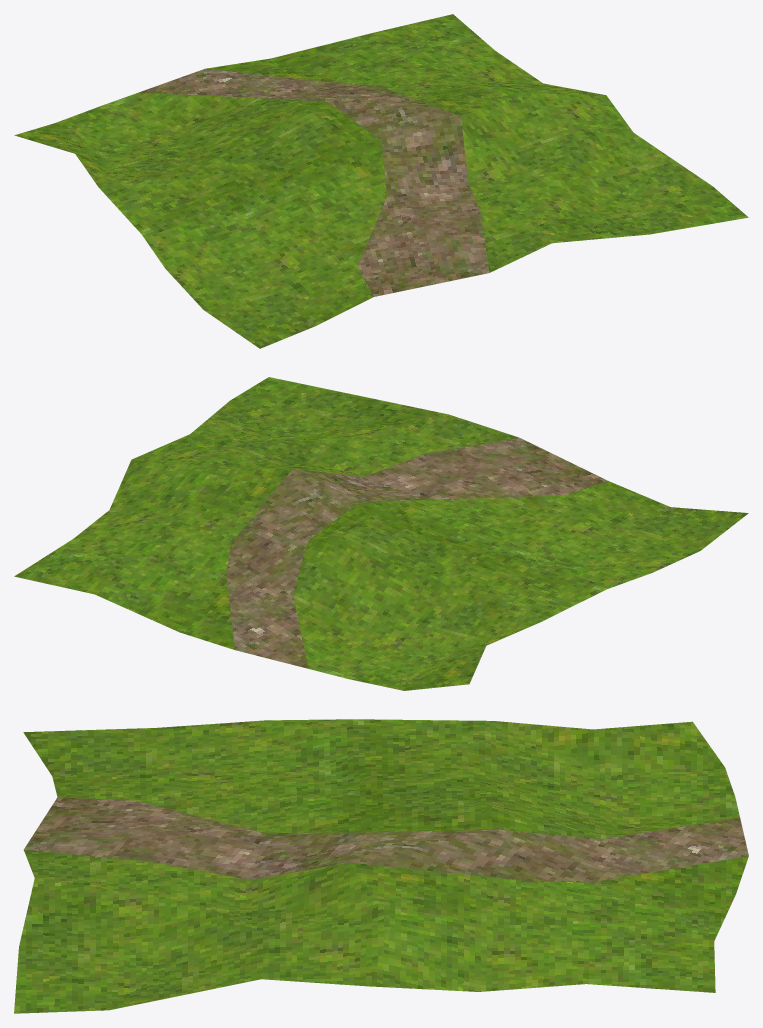
File: IntermissionHill.glb
3 views of the same model, one above another, from view 1: azimuth 30°, elevation 25°; view 2: azimuth 150°, elevation 25°; view 3: azimuth 270°, elevation 25° (orthographic). The views are drawn at different scales.
Parts seen in each view (by area): view 1: Plane.006; view 2: Plane.006; view 3: Plane.006.
Boxes of the visible parts, x1,y1,x2,y2 form: Plane.006: (14, 14, 748, 348); Plane.006: (14, 377, 748, 690); Plane.006: (14, 719, 748, 1013).
Size of the model in its own units: 5.48 by 0.6416 by 5.58.
Materials: 2 (2 with a texture image).
